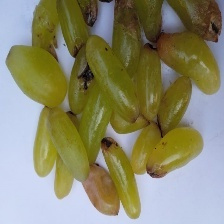grapes: (37, 22, 175, 174)
